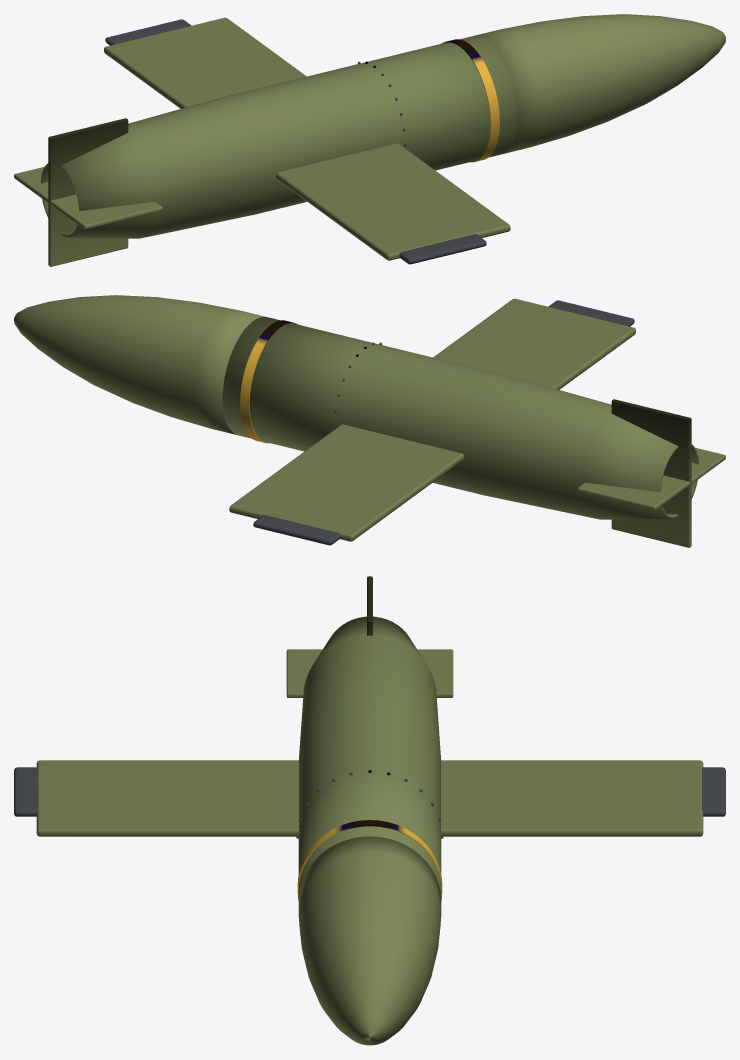
Rendered from glider.glb.
3 renders of one model, top to bottom at view 1: azimuth 30°, elevation 25°; view 2: azimuth 150°, elevation 25°; view 3: azimuth 270°, elevation 25°, orthographic. The views are drawn at different scales.
Visible parts, largest first — view 1: glider.paint.0, anim-g_nose, anim-g_fin1, anim-g_fin0, glider.metal.2, glider.paint.1; view 2: glider.paint.0, anim-g_nose, anim-g_fin1, anim-g_fin0, glider.metal.2, glider.paint.1; view 3: glider.paint.0, anim-g_nose, glider.metal.2, anim-g_fin0, glider.paint.1.
Part boxes in pixels (x1,y1,x2,y2): glider.paint.0: (41, 17, 517, 260); anim-g_nose: (474, 14, 725, 153); anim-g_fin1: (48, 118, 128, 266); anim-g_fin0: (14, 167, 162, 229); glider.metal.2: (105, 19, 486, 264); glider.paint.1: (441, 39, 499, 162); glider.paint.0: (222, 298, 698, 541); anim-g_nose: (14, 295, 265, 434); anim-g_fin1: (611, 399, 691, 547); anim-g_fin0: (577, 448, 725, 510); glider.metal.2: (253, 300, 634, 545); glider.paint.1: (240, 320, 298, 443); glider.paint.0: (36, 616, 703, 900); anim-g_nose: (298, 836, 441, 1045); glider.metal.2: (14, 767, 725, 838); anim-g_fin0: (286, 649, 453, 697); glider.paint.1: (297, 820, 442, 900).
Size of the model in its own units: 6.03 by 1.1 by 4.7.
